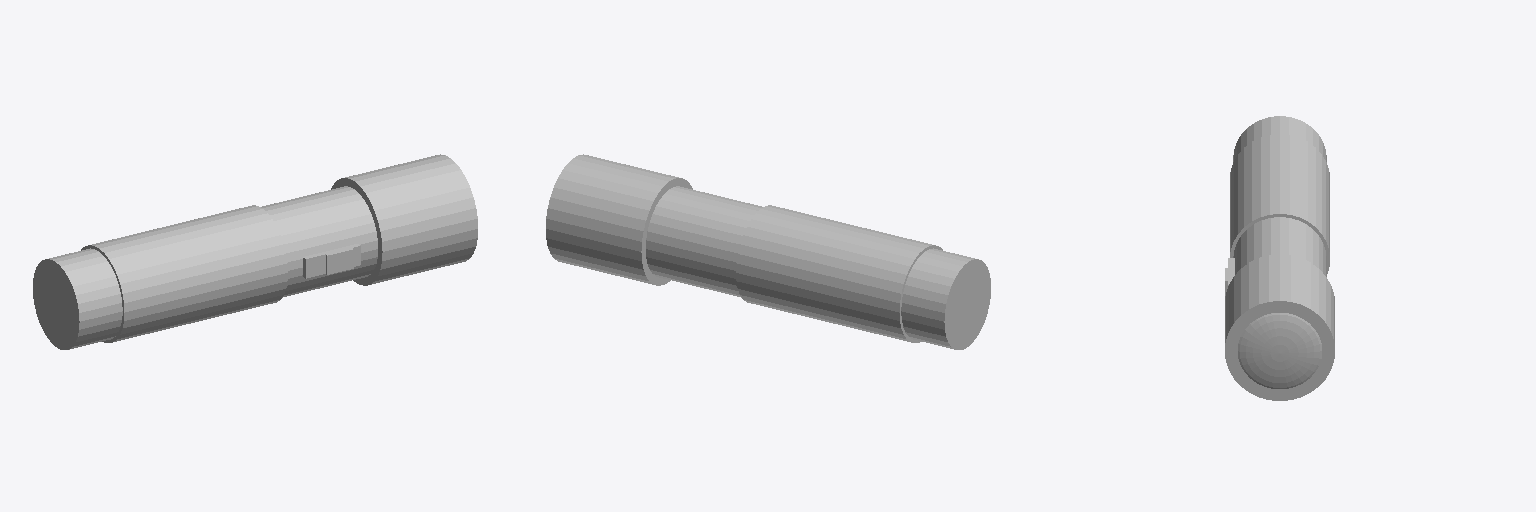
Rendered from lanterna_direita.obj.
3 views of the same model, side by side, from view 1: azimuth 30°, elevation 25°; view 2: azimuth 150°, elevation 25°; view 3: azimuth 270°, elevation 25° (orthographic).
Parts seen in each view (by area): view 1: Cylinder.001; view 2: Cylinder.001; view 3: Cylinder.001.
Boxes of the visible parts, <box> form: Cylinder.001: <box>33,154,477,349</box>; Cylinder.001: <box>546,154,990,349</box>; Cylinder.001: <box>1225,116,1334,400</box>.
Size of the model in its own units: 0.5581 by 0.1339 by 0.1339.